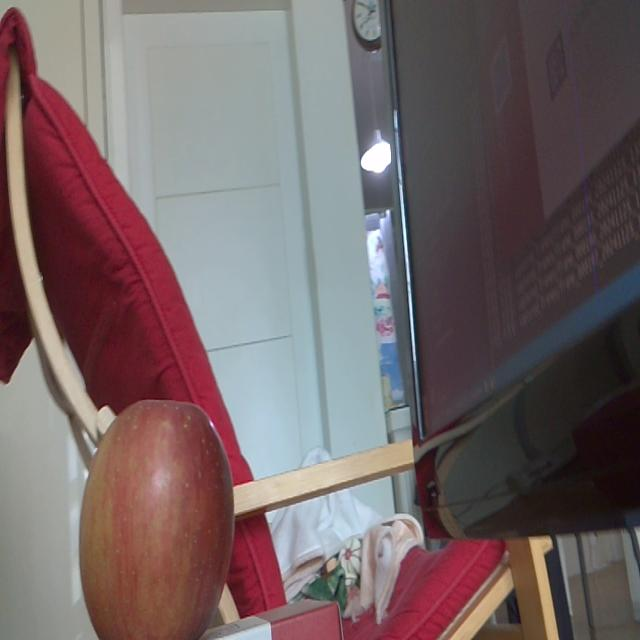apple: (81, 401, 233, 640)
